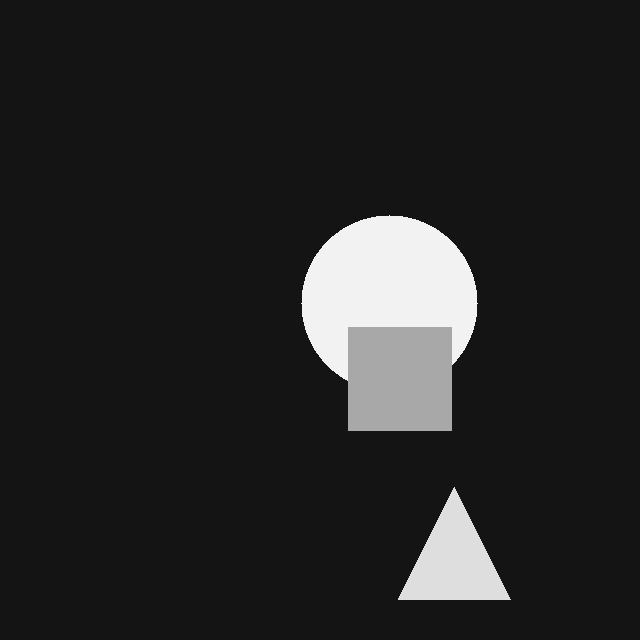circle: (301, 215, 477, 391)
square: (348, 327, 451, 430)
triangle: (398, 487, 510, 599)
